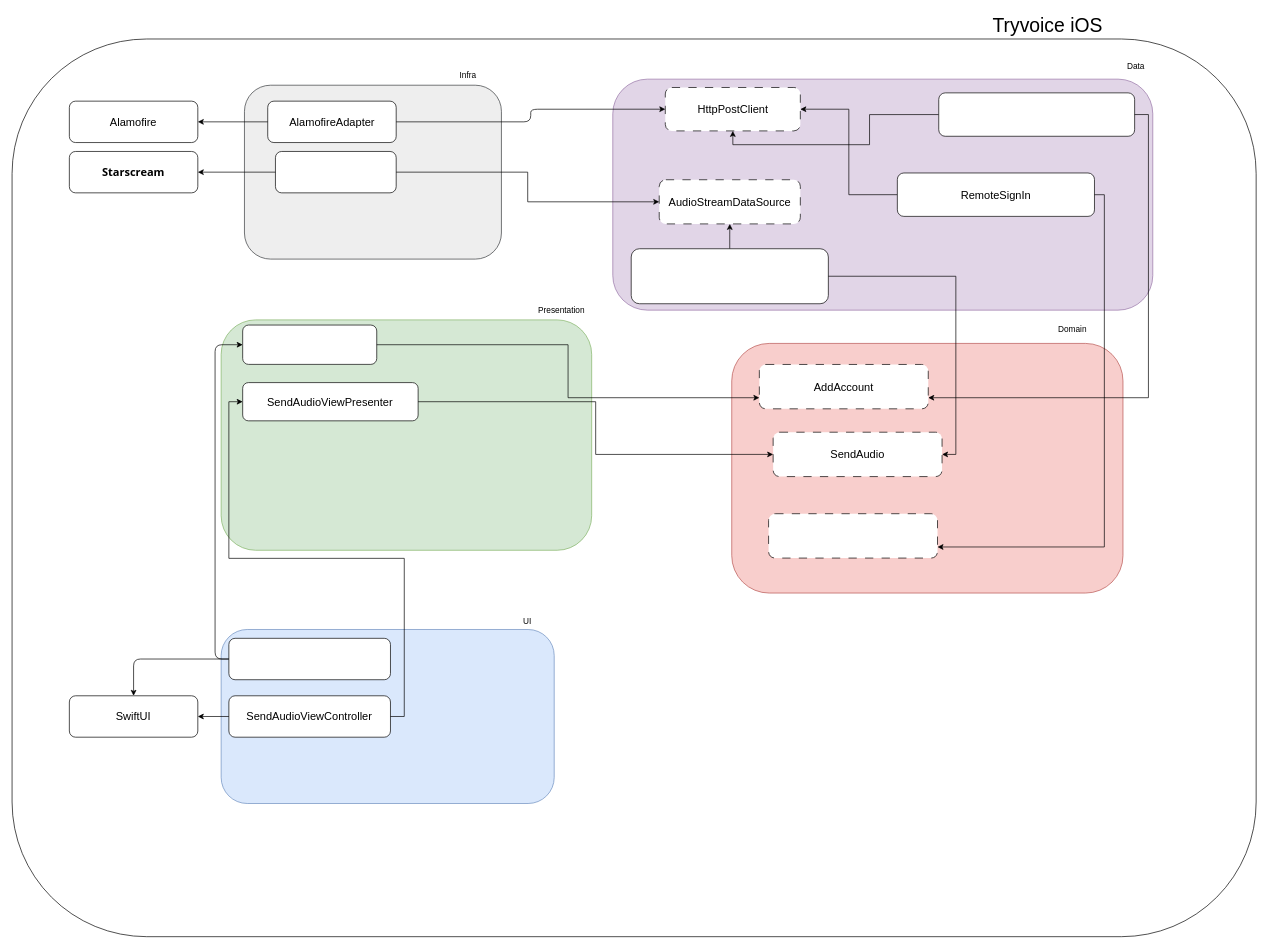
This 1268x949 diagram has some shape labels left out. The centre of each missing label's shape, as x and y in pixels:
RemoteAddAccount: the point at 1036,114
RemoteSendAudio: the point at 729,276
SignIn: the point at 853,535
SignUpViewController: the point at 309,659
SignUpViewPresenter: the point at 309,344
WebsocketAdapter: the point at 335,172
